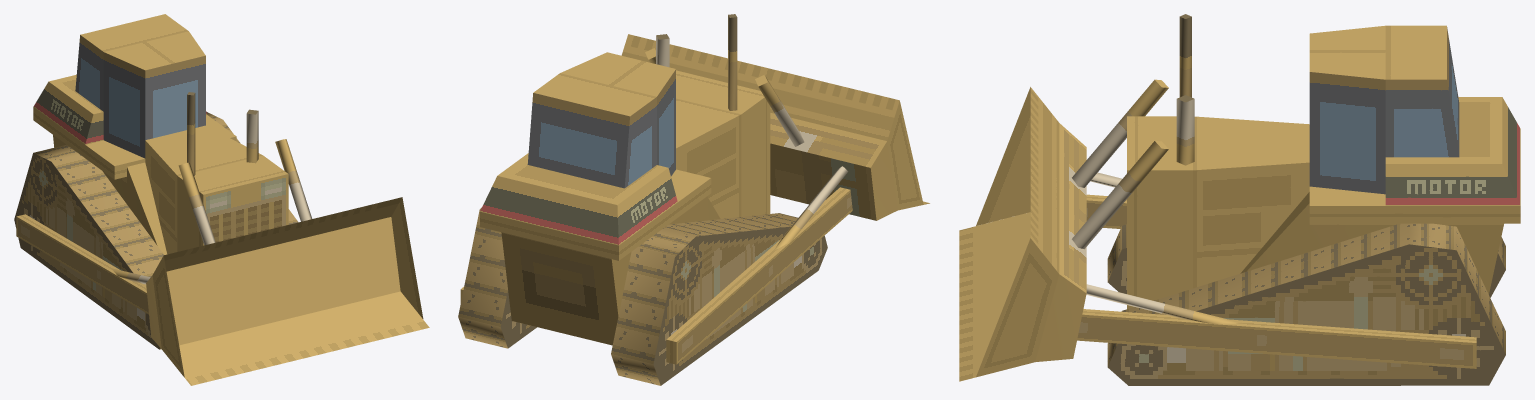
The model's file is 01a8_Bulldozer.glb.
3 renders of one model, left to right at view 1: azimuth 30°, elevation 25°; view 2: azimuth 150°, elevation 25°; view 3: azimuth 270°, elevation 25°, orthographic. The views are drawn at different scales.
Parts seen in each view (by area): view 1: part_0, part_1; view 2: part_0, part_1; view 3: part_0, part_1.
Boxes of the visible parts, x1,y1,x2,y2 form: part_0: (14, 14, 429, 385); part_1: (33, 112, 298, 349); part_0: (460, 14, 929, 385); part_1: (458, 207, 797, 385); part_0: (959, 14, 1520, 385); part_1: (1107, 223, 1505, 366).
Size of the model in its own units: 3.69 by 3.35 by 5.79.
1 material, 1 textured.
